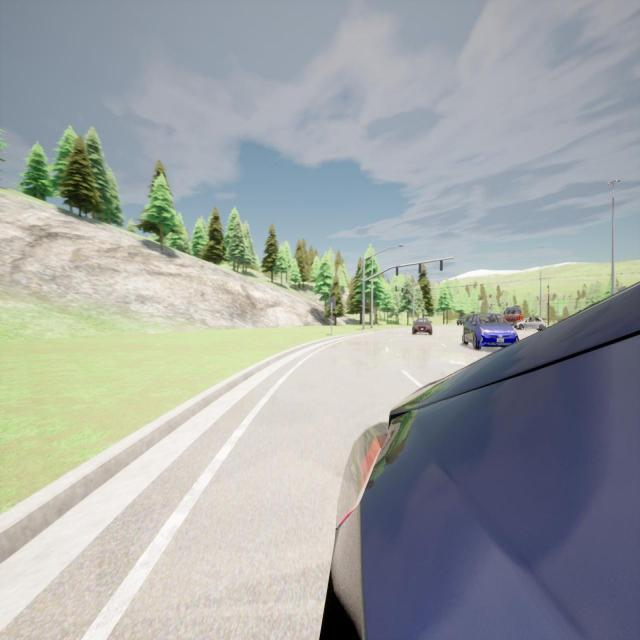Traffic_Signs: (330, 298, 336, 310)
Vehicle: (322, 286, 640, 640), (462, 314, 518, 348), (515, 317, 548, 331), (412, 318, 432, 336), (503, 307, 524, 321), (456, 314, 469, 326)
traffic_light: (418, 262, 422, 274), (440, 260, 443, 270), (396, 266, 398, 276)
